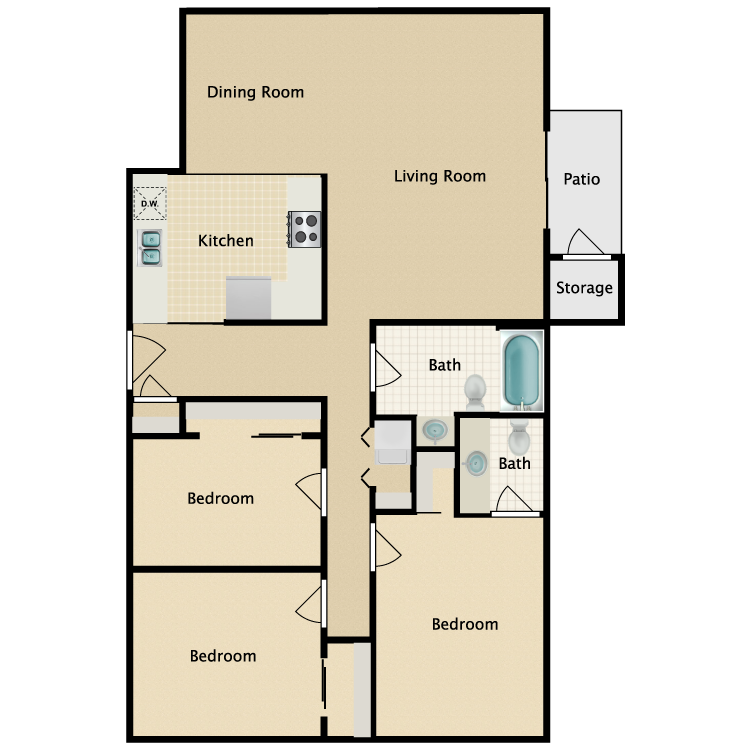door: (135, 328, 170, 374), (378, 525, 413, 571), (285, 582, 320, 628), (379, 346, 414, 392), (284, 469, 319, 515), (560, 224, 605, 250), (139, 374, 177, 397)
room: (174, 5, 554, 178), (366, 506, 554, 742), (123, 391, 331, 576), (123, 562, 329, 745), (124, 168, 331, 332), (366, 315, 558, 422), (451, 407, 554, 521), (543, 247, 630, 328), (358, 411, 421, 515)
wall: (180, 7, 549, 14), (543, 230, 548, 739), (126, 415, 133, 740), (369, 318, 622, 324), (369, 572, 376, 741), (133, 565, 325, 571), (179, 7, 185, 167), (126, 169, 132, 320), (321, 177, 327, 323), (178, 397, 327, 402), (410, 416, 417, 510), (454, 414, 460, 517), (544, 9, 549, 130), (128, 432, 197, 438)
